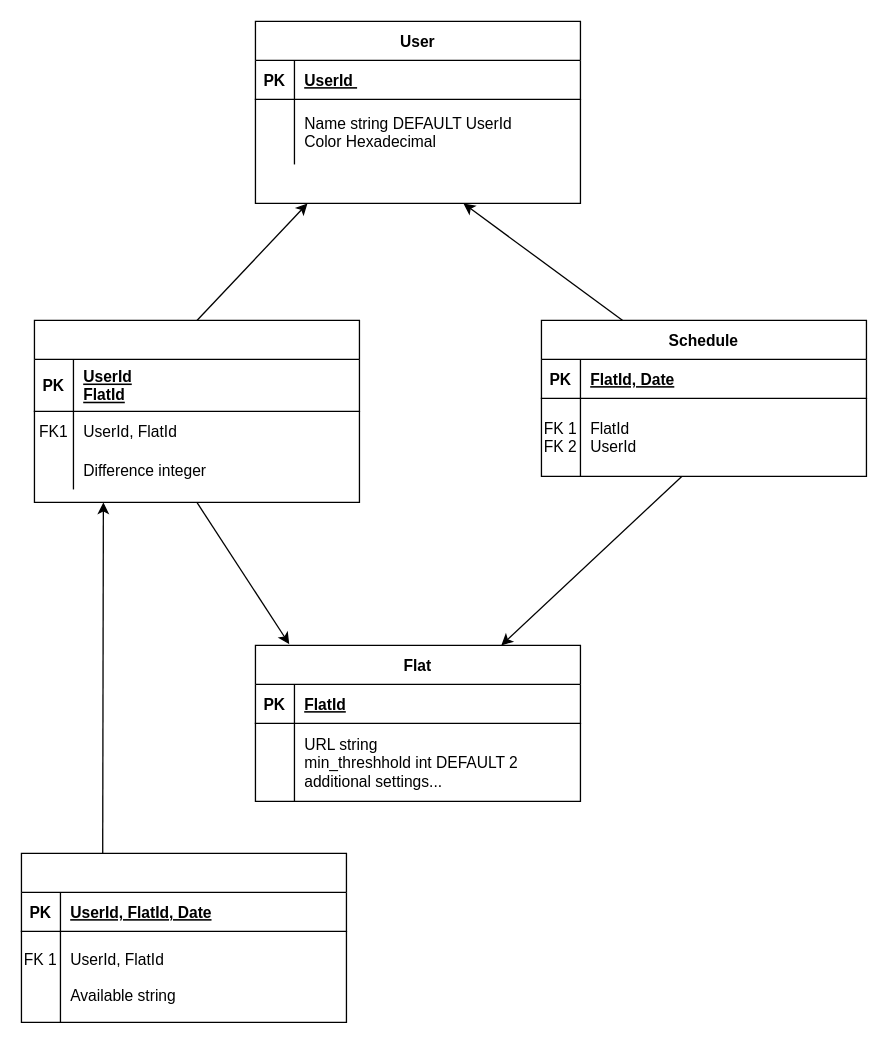
The diagram is 888 pixels wide and 1044 high, and some of its shapes have lost their labels. Here are the shapes that lost their labels. From the top down, the box of each, then its label:
(33, 319, 359, 502): UserFlat
(20, 852, 346, 1022): Availability
